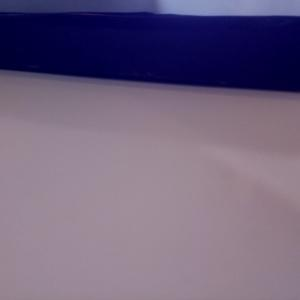zone: (1, 14, 300, 93)
